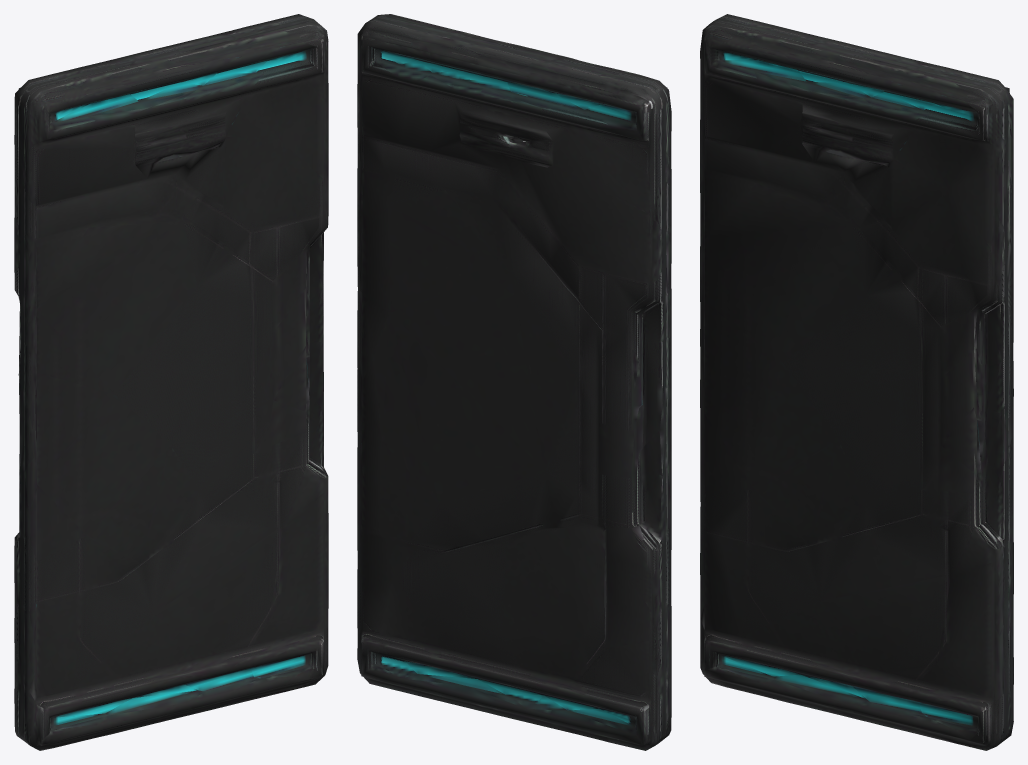
File: wall-panel.glb
3 views of the same model, side by side, from view 1: azimuth 30°, elevation 25°; view 2: azimuth 150°, elevation 25°; view 3: azimuth 330°, elevation 25° (orthographic).
Bounding box in the file's own units: 0.9093 × 1.91 × 0.1292.
1 material, 1 textured.
